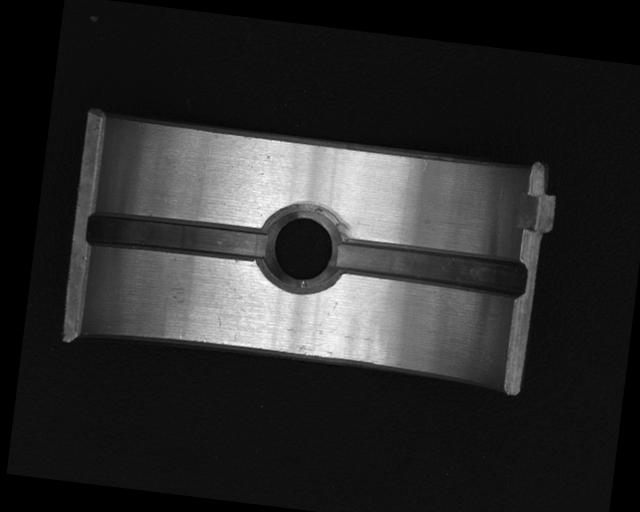gap: (333, 234, 528, 302), (84, 209, 271, 265)
hole: (253, 196, 351, 301)
